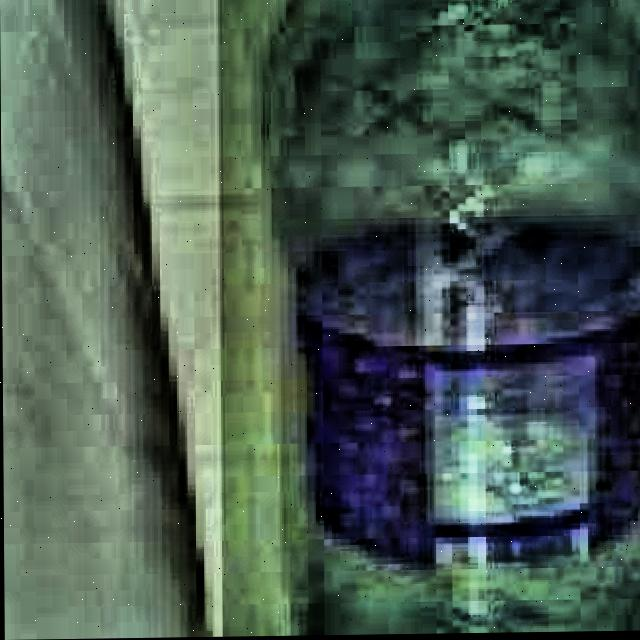plastic: (218, 0, 640, 637)
